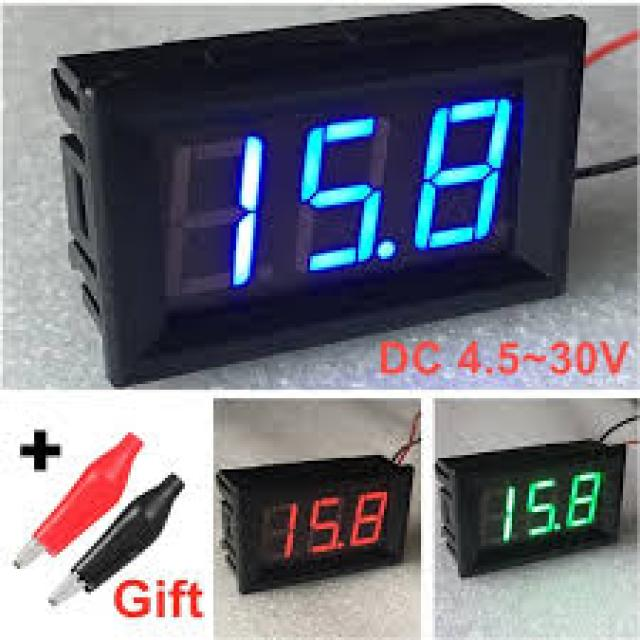.: (378, 239, 397, 260), (554, 521, 562, 531), (338, 540, 346, 549)
1: (212, 129, 286, 305), (482, 488, 520, 543), (284, 502, 302, 560)
5: (300, 124, 410, 285), (524, 477, 558, 536), (308, 494, 339, 555)
8: (420, 91, 520, 261), (350, 490, 390, 548), (566, 472, 602, 530)
screen: (160, 88, 535, 294), (263, 484, 397, 566), (479, 466, 607, 550)
